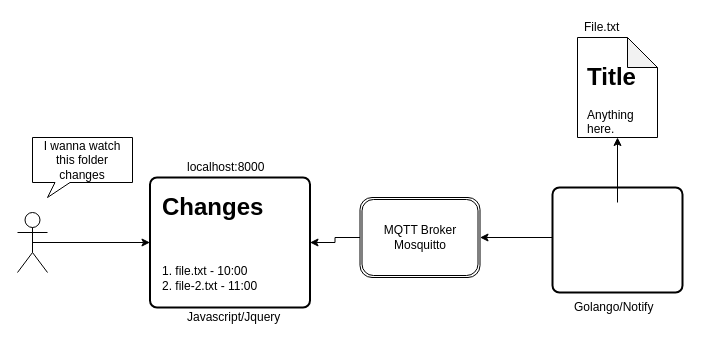
Image size: 701x344. Some labels were removed from this diagram. Here are the shapes that lost their labels. From the top down, the box of each, then its label:
(16, 212, 48, 272): Actor
(551, 186, 683, 293): watch(aboveFile) warm(MQTT)
